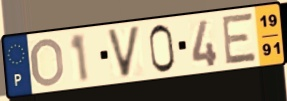0: (148, 22, 178, 74)
1: (69, 32, 91, 85)
4: (190, 17, 220, 69)
E: (221, 10, 259, 67)
O: (29, 37, 66, 89)
V: (105, 23, 143, 81)
